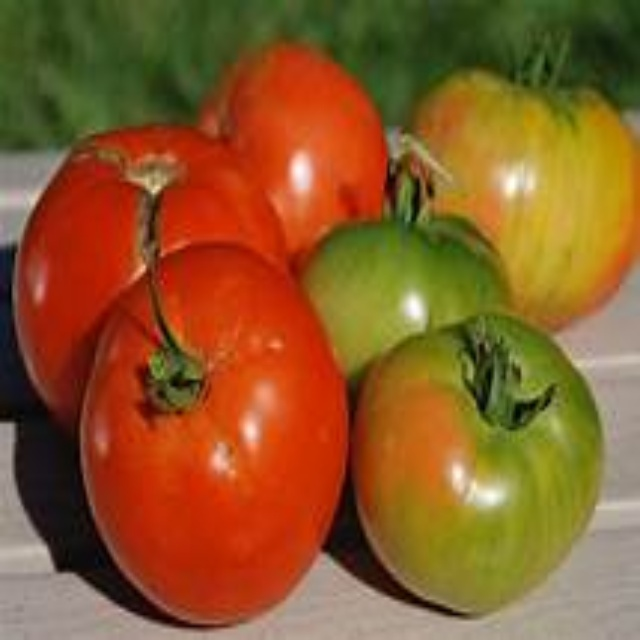tomato: (78, 247, 346, 626), (21, 118, 291, 425), (354, 328, 605, 612), (410, 59, 639, 333), (202, 45, 386, 252), (312, 208, 525, 375)
